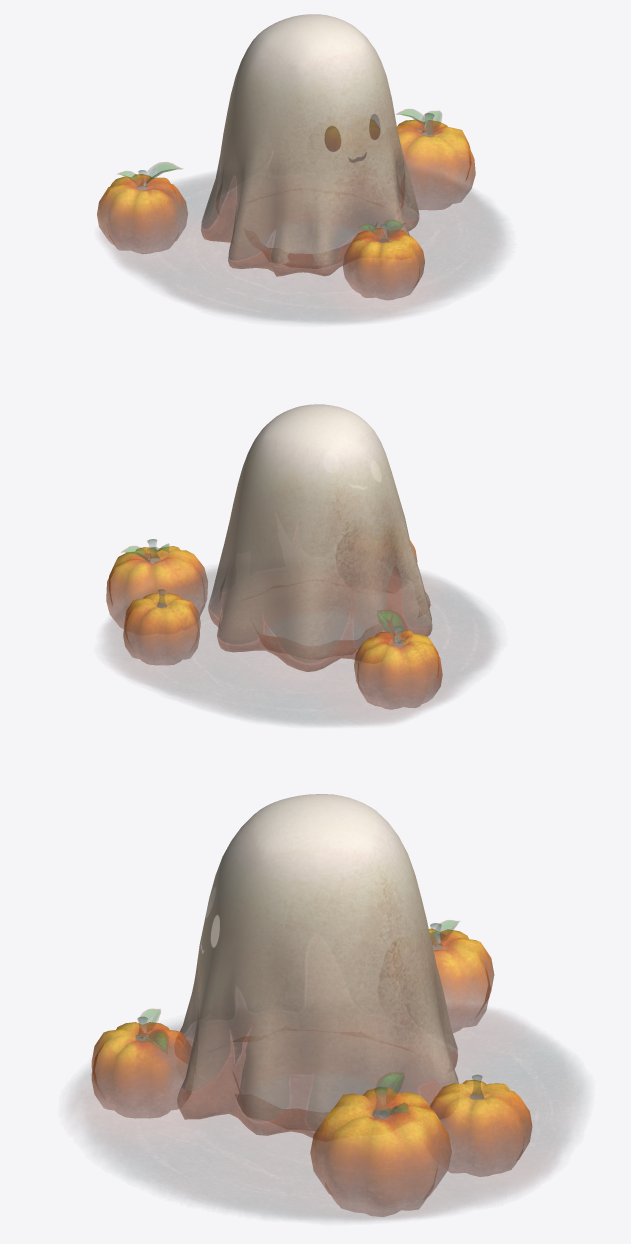
File: Cute_ghost.glb
3 views of the same model, one above another, from view 1: azimuth 30°, elevation 25°; view 2: azimuth 150°, elevation 25°; view 3: azimuth 270°, elevation 25° (orthographic). The views are drawn at different scales.
Parts seen in each view (by area): view 1: Ghost_M_Ghost_0, Ground_M_Ground_0, Ghost.001_M_Ghost_0; view 2: Ghost_M_Ghost_0, Ground_M_Ground_0, Ghost.001_M_Ghost_0; view 3: Ghost_M_Ghost_0, Ground_M_Ground_0, Ghost.001_M_Ghost_0.
Boxes of the visible parts, <box> form: Ghost_M_Ghost_0: <box>97,14,475,299</box>; Ground_M_Ground_0: <box>100,174,506,323</box>; Ghost.001_M_Ghost_0: <box>118,109,441,237</box>; Ghost_M_Ghost_0: <box>106,404,442,709</box>; Ground_M_Ground_0: <box>103,568,497,726</box>; Ghost.001_M_Ghost_0: <box>121,543,408,643</box>; Ghost_M_Ghost_0: <box>91,794,532,1216</box>; Ground_M_Ground_0: <box>69,1009,585,1221</box>; Ghost.001_M_Ghost_0: <box>135,920,459,1118</box>.
Bounding box in the file's own units: 5.28 × 3.09 × 5.47.
2 materials, 2 textured.
